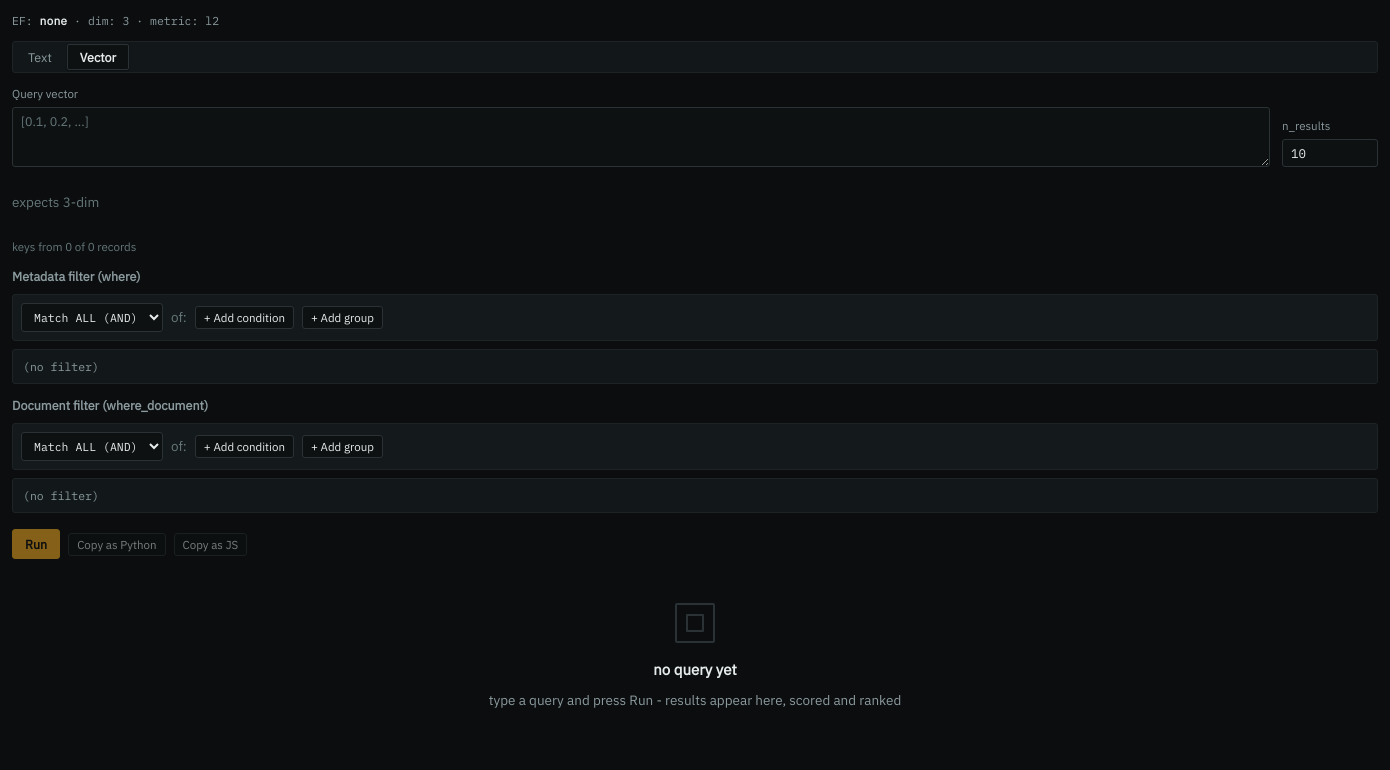
copy buttons stay enabled while Run is disabled by a guard block
Expected: the text "EF: none · dim: 3 · metric: l2" is shown, x1=12 y1=13 x2=219 y2=28
Step 1. Click the tab "Text" → (40, 57), box x1=15 y1=44 x2=65 y2=70
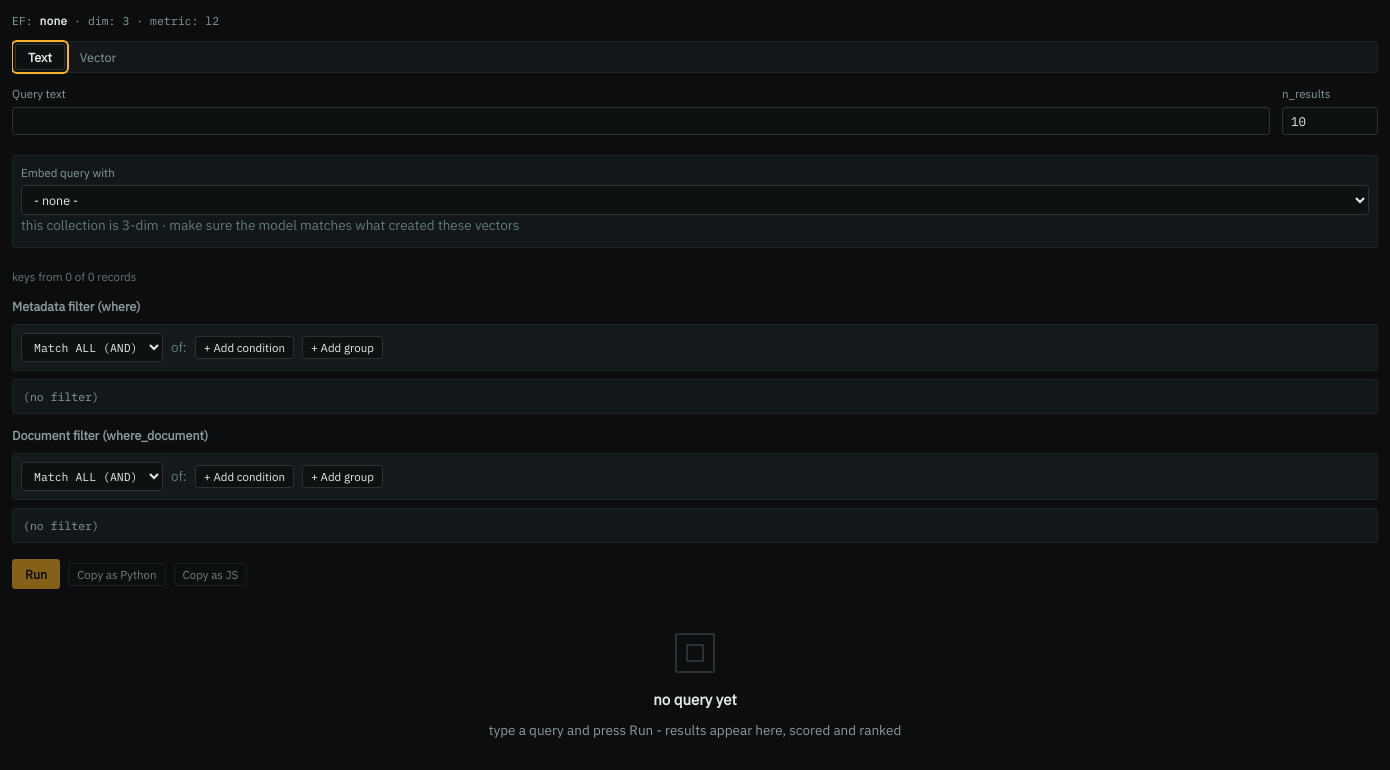
Step 2. Type "hello" into the field labelled "Query text" → (641, 120), box x1=12 y1=106 x2=1270 y2=134
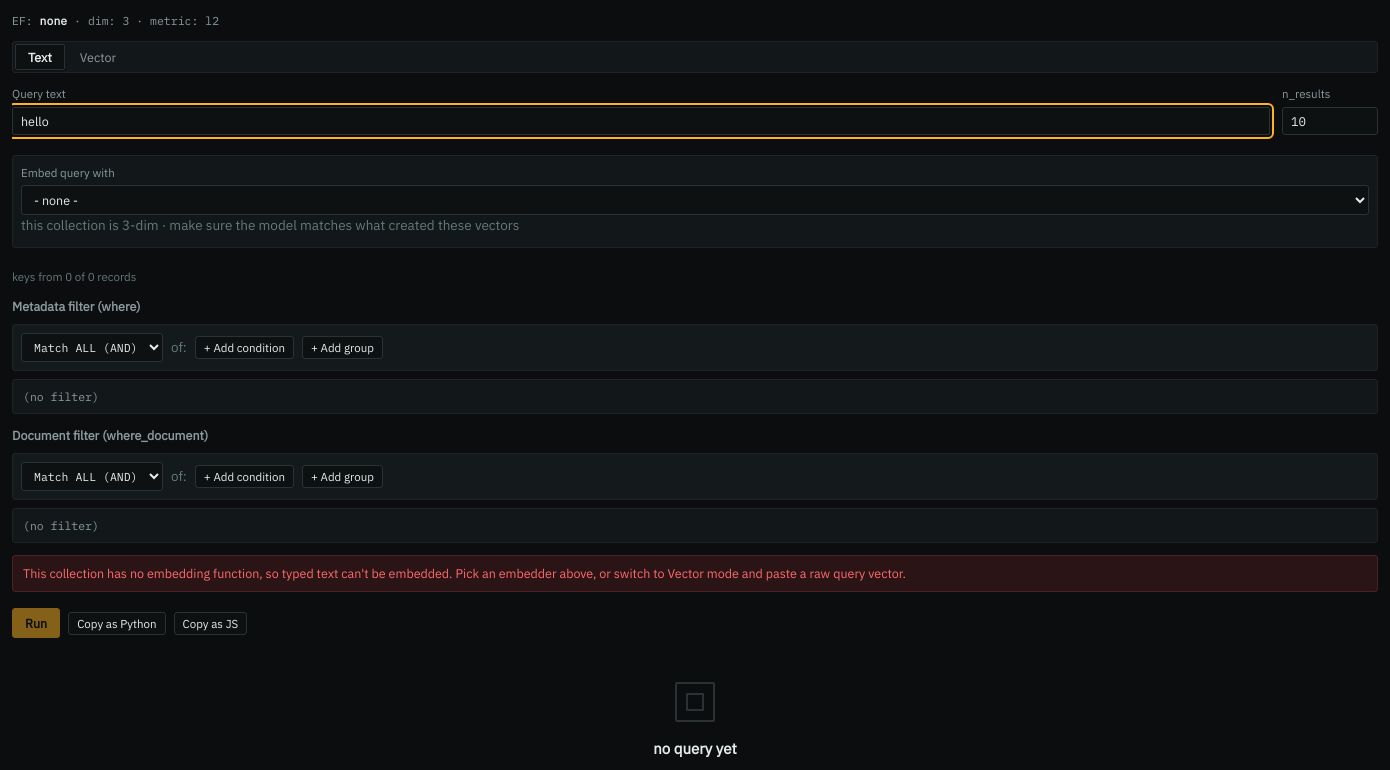
Expected: the message shows "no embedding function", x1=23 y1=565 x2=906 y2=581
Expected: the button "Copy as Python" is enabled, x1=68 y1=612 x2=166 y2=634
Expected: the button "Copy as JS" is enabled, x1=174 y1=612 x2=247 y2=634
